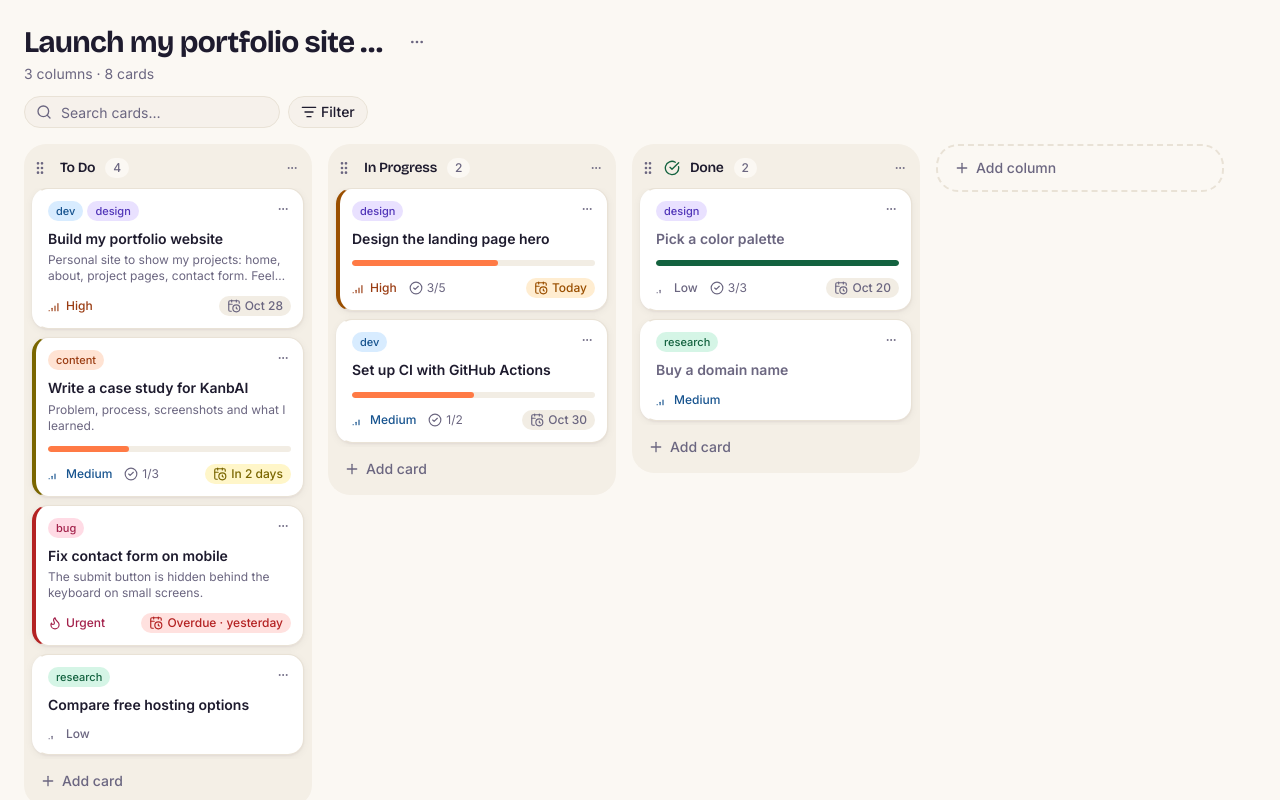
Scenario: card detail dialog › does not open when the card's menu button is clicked
Click the button named "Actions for “Buy a domain name”". click: (891, 340)
box: [879,328,903,352]
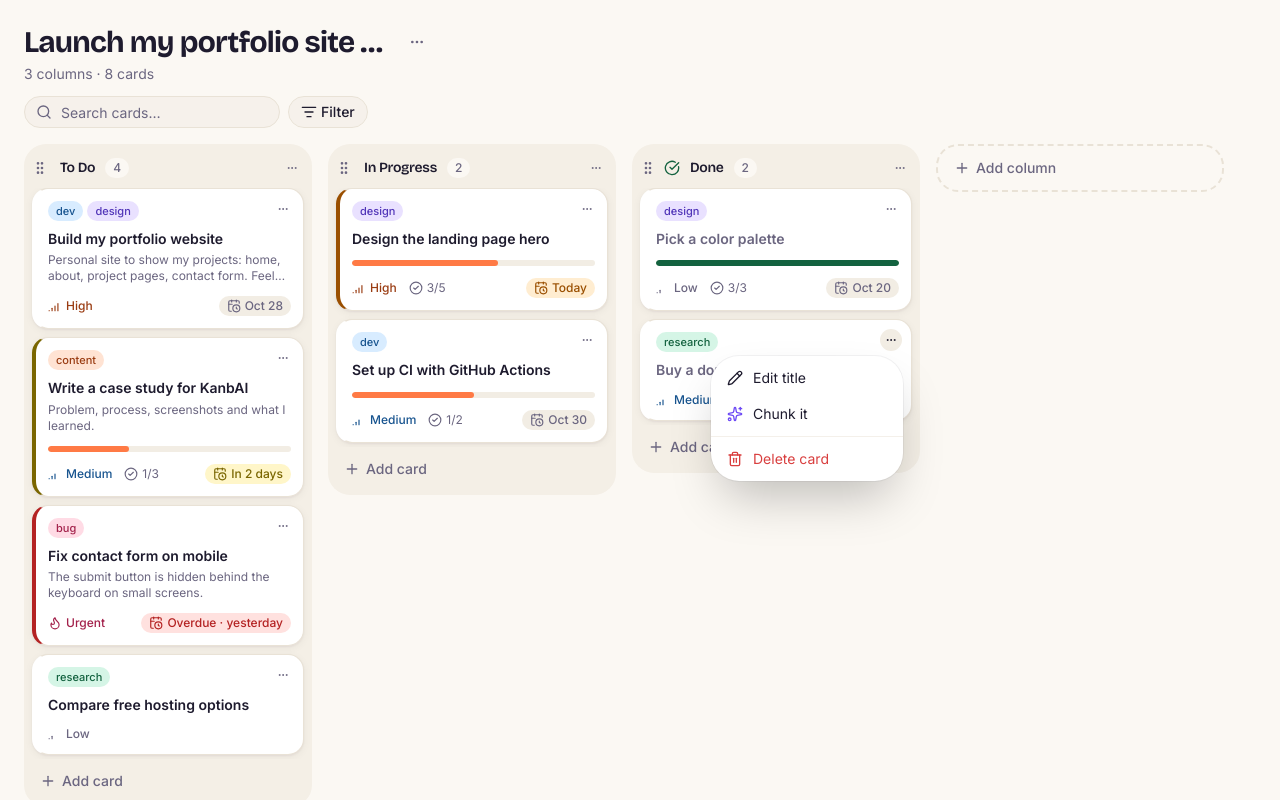
Result: the menu is shown at [711,356,903,481]
